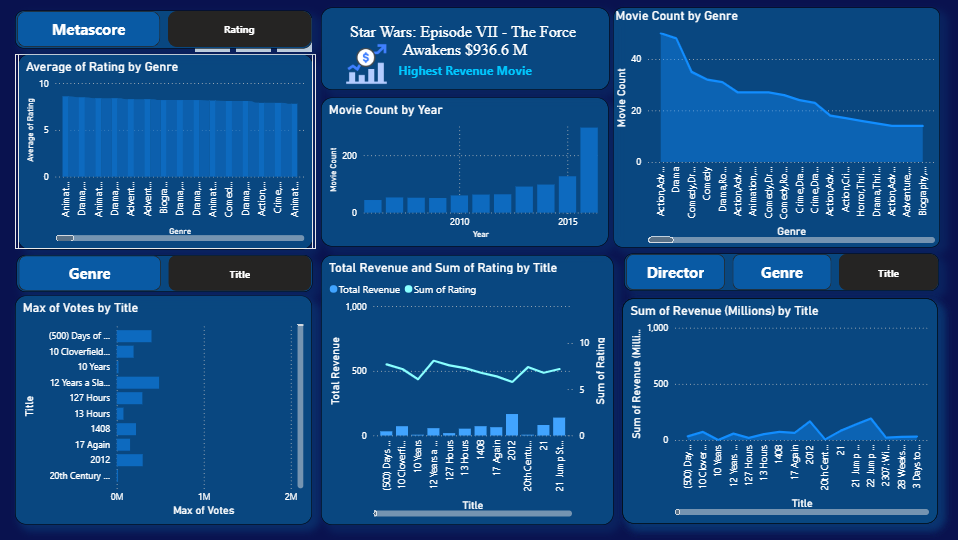

Layout of this report page (visuals, bound fields, positions):
{"tool":"powerbi","page":{"name":"Genre Wise Analysis","canvas":[1280,720],"ordinal":1},"visuals":[{"type":"areaChart","fields":{"Category":["Movie.Genre"],"Y":["Movie.Movie Count"]},"box":[818.3,10,435,320],"z":0},{"type":"group","id":"g1","title":"Group 1","box":[20.7,71.6,400.8,260.9],"z":1000},{"type":"ribbonChart","fields":{"Category":["Movie.Genre"],"Y":["Avg(Movie.Rating)"]},"box":[24.5,71.6,393.2,260.9],"z":1000,"group":"g1"},{"type":"group","id":"g2","title":"Group 2","box":[20.7,394.5,396.1,305.4],"z":2000},{"type":"areaChart","fields":{"Category":["Movie.Genre"],"Y":["Sum(Movie.Revenue (Millions))"]},"box":[829.4,397,420,300],"z":2000,"group":"g5"},{"type":"lineStackedColumnComboChart","fields":{"Category":["Movie.Title"],"Y":["Movie.Total Revenue"],"Y2":["Sum(Movie.Rating)"]},"box":[428.3,340,390,360],"z":3000},{"type":"columnChart","fields":{"Category":["Movie.Year"],"Y":["Movie.Movie Count"]},"box":[427.9,130.4,383.3,198.8],"z":4000},{"type":"areaChart","fields":{"Category":["Movie.Director"],"Y":["Sum(Movie.Revenue (Millions))"]},"box":[829.4,397,420,300],"z":4000,"group":"g5"},{"type":"barChart","fields":{"Category":["Movie.Genre"],"Y":["Max(Movie.Votes)"]},"box":[20.7,397.1,396.1,300.2],"z":4000,"group":"g3"},{"type":"card","fields":{"Values":["Movie.Highest Revenue Card"]},"box":[427.9,9.5,384.9,109.8],"z":5000},{"type":"bookmarkNavigator","box":[831,338,420,50],"z":6000},{"type":"barChart","fields":{"Category":["Movie.Title"],"Y":["Max(Movie.Votes)"]},"box":[20.7,394.5,396.1,305.4],"z":6003,"group":"g3"},{"type":"group","id":"g3","title":"Group 3","box":[20.7,394.5,396.1,305.4],"z":6005,"group":"g2"},{"type":"bookmarkNavigator","box":[22.3,340.4,394.5,49.3],"z":7000},{"type":"stackedAreaChart","fields":{"Category":["Movie.Title"],"Y":["Sum(Movie.Revenue (Millions))"]},"box":[829.4,397,420,300],"z":7000,"group":"g5"},{"type":"bookmarkNavigator","box":[20.7,14.3,396.1,50.9],"z":8000},{"type":"group","id":"g4","title":"Group 4","box":[829.4,397,420,300],"z":9000},{"type":"image","box":[446,49,85,70],"z":10000},{"type":"group","id":"g5","title":"Group 5","box":[829.4,397,420,300],"z":10001,"group":"g4"}]}

Visuals, with their boxes in screenshot pixels (x1, y1, x2, y2), scaled from the page's 1280x720 canvas onto the 958x540 screenshot:
areaChart - Movie.Genre x Movie.Movie Count: 612,8,938,248
"Group 1" group: 15,54,315,249
ribbonChart - Movie.Genre x Avg(Movie.Rating): 18,54,313,249
"Group 2" group: 15,296,312,525
areaChart - Movie.Genre x Sum(Movie.Revenue (Millions)): 621,298,935,523
lineStackedColumnComboChart - Movie.Title x Movie.Total Revenue: 321,255,612,525
columnChart - Movie.Year x Movie.Movie Count: 320,98,607,247
areaChart - Movie.Director x Sum(Movie.Revenue (Millions)): 621,298,935,523
barChart - Movie.Genre x Max(Movie.Votes): 15,298,312,523
card - Movie.Highest Revenue Card: 320,7,608,89
bookmarkNavigator: 622,254,936,291
barChart - Movie.Title x Max(Movie.Votes): 15,296,312,525
"Group 3" group: 15,296,312,525
bookmarkNavigator: 17,255,312,292
stackedAreaChart - Movie.Title x Sum(Movie.Revenue (Millions)): 621,298,935,523
bookmarkNavigator: 15,11,312,49
"Group 4" group: 621,298,935,523
image: 334,37,397,89
"Group 5" group: 621,298,935,523
